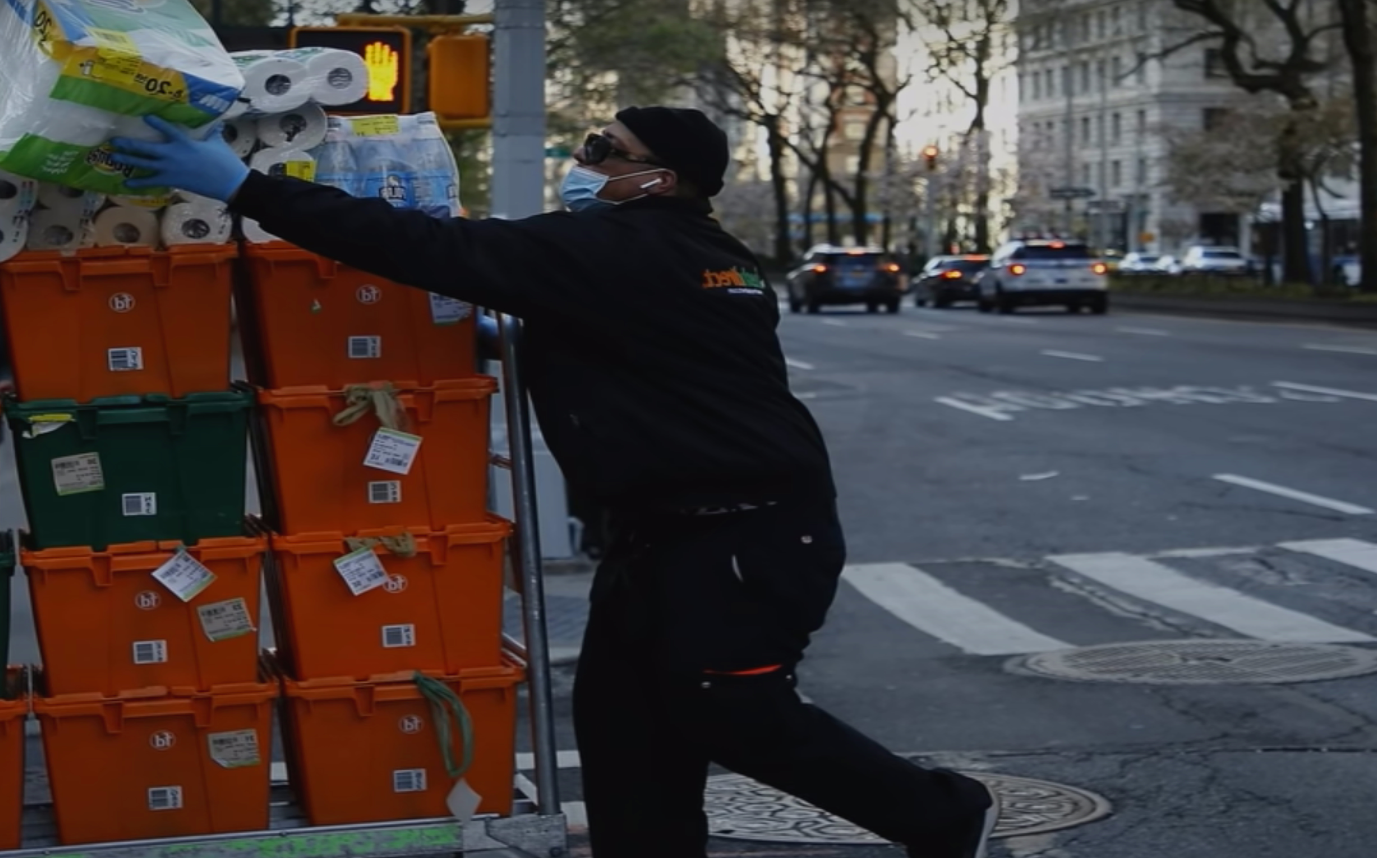mask_weared_incorrect: (557, 104, 726, 217)
